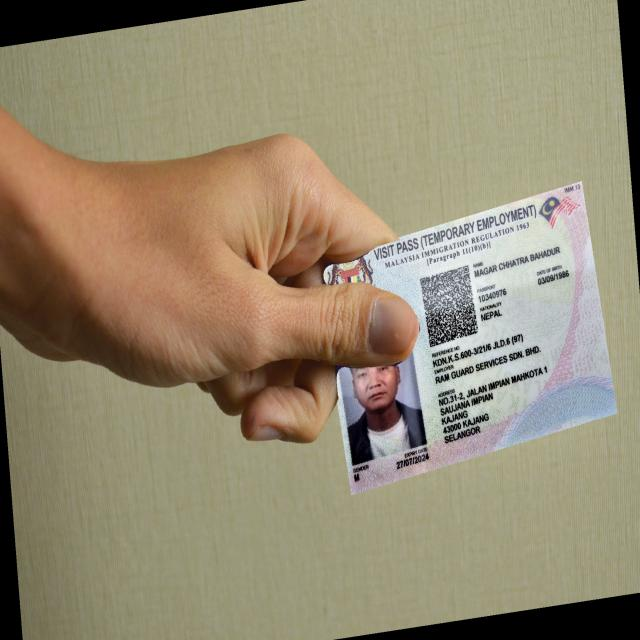ikad-temp: (322, 179, 618, 495)
